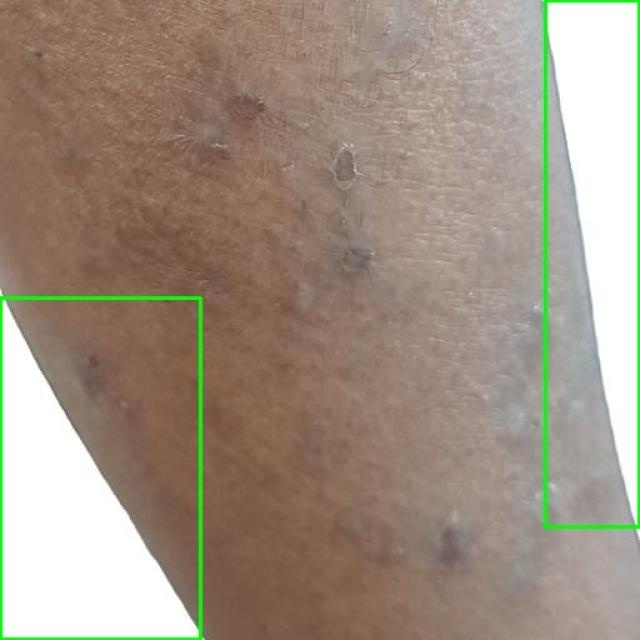Atopic Dermatitis: (0, 298, 200, 639), (545, 0, 639, 526)
